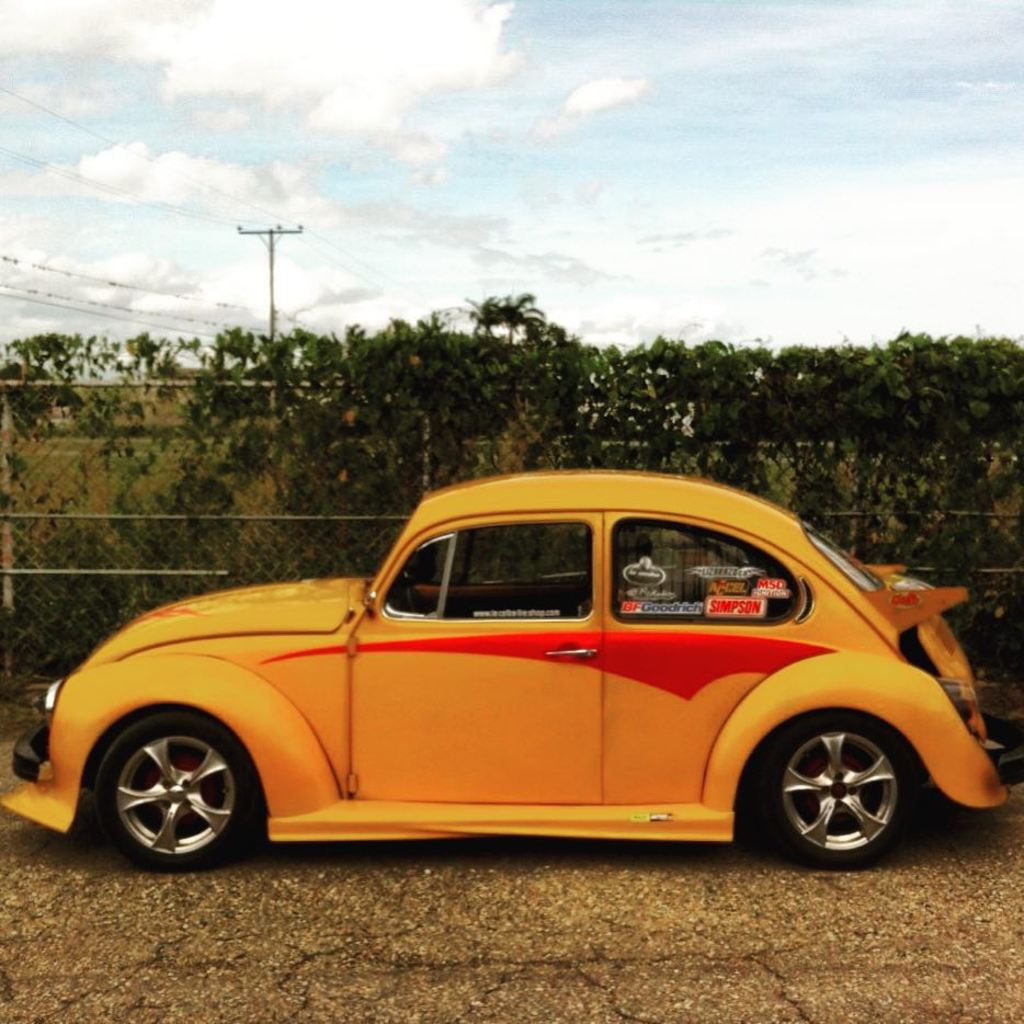cars: (0, 472, 1022, 877)
